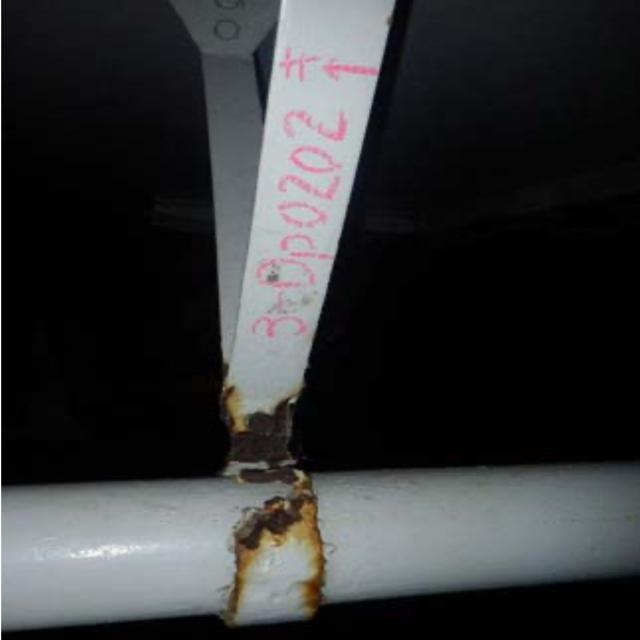corrosion: (175, 373, 338, 640)
